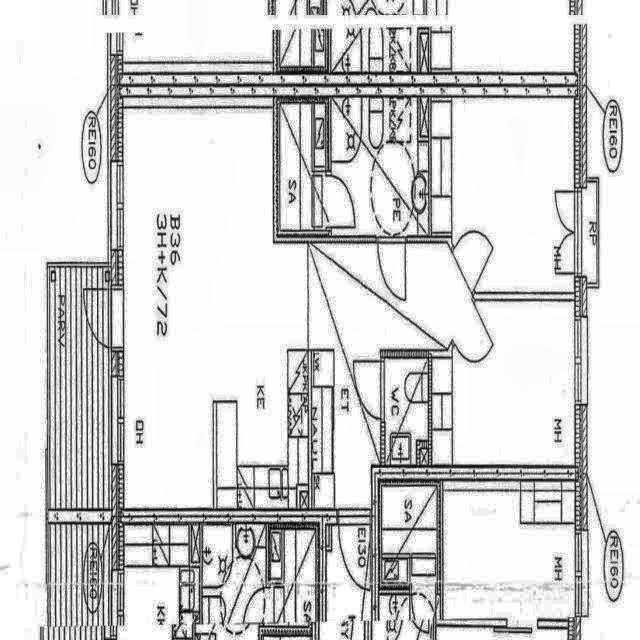room: (431, 98, 574, 292), (432, 302, 575, 466), (331, 98, 429, 236), (280, 104, 325, 229), (385, 360, 428, 464)
